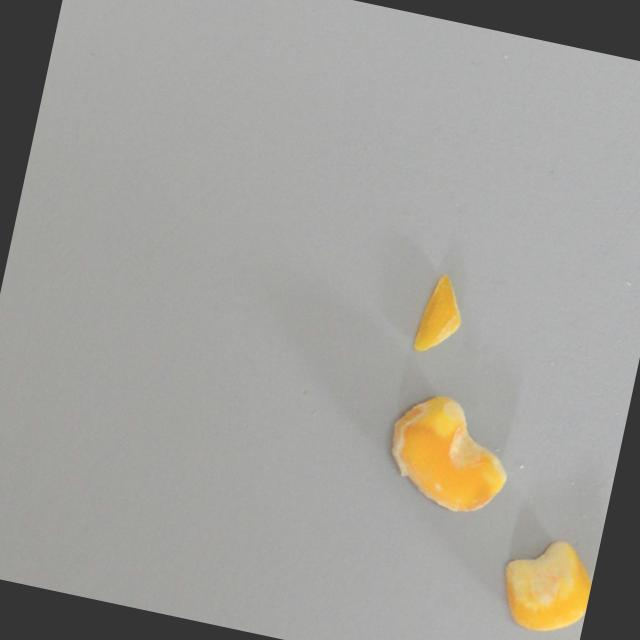no_canjicado: (488, 526, 599, 640)
pelicula: (372, 381, 526, 523), (407, 267, 474, 362)
